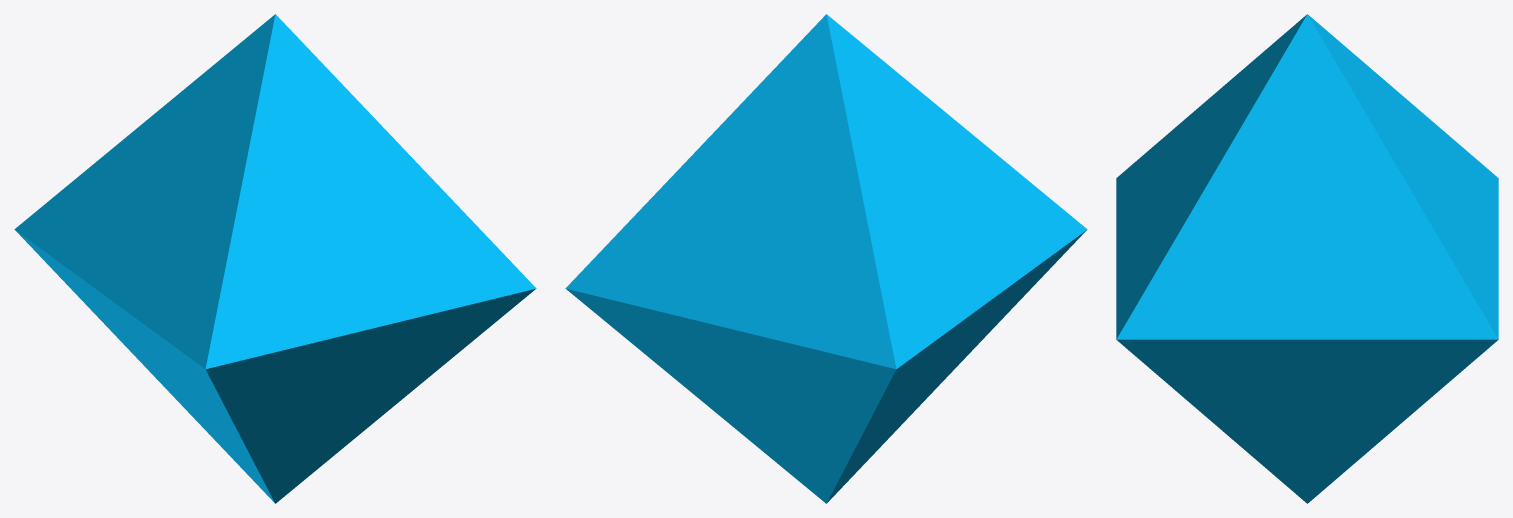
The model's file is gem.glb.
3 renders of one model, left to right at view 1: azimuth 30°, elevation 25°; view 2: azimuth 150°, elevation 25°; view 3: azimuth 270°, elevation 25°, orthographic.
Size of the model in its own units: 0.495 by 0.7 by 0.495.
